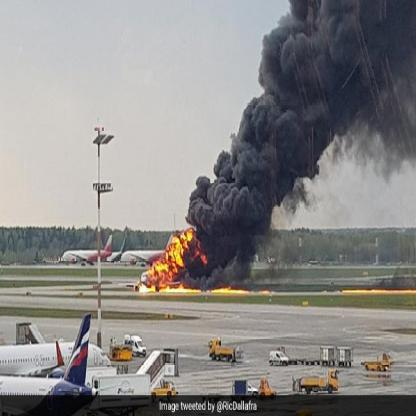CIV_Plane: (0, 308, 125, 406), (57, 230, 112, 266), (118, 246, 172, 268)
